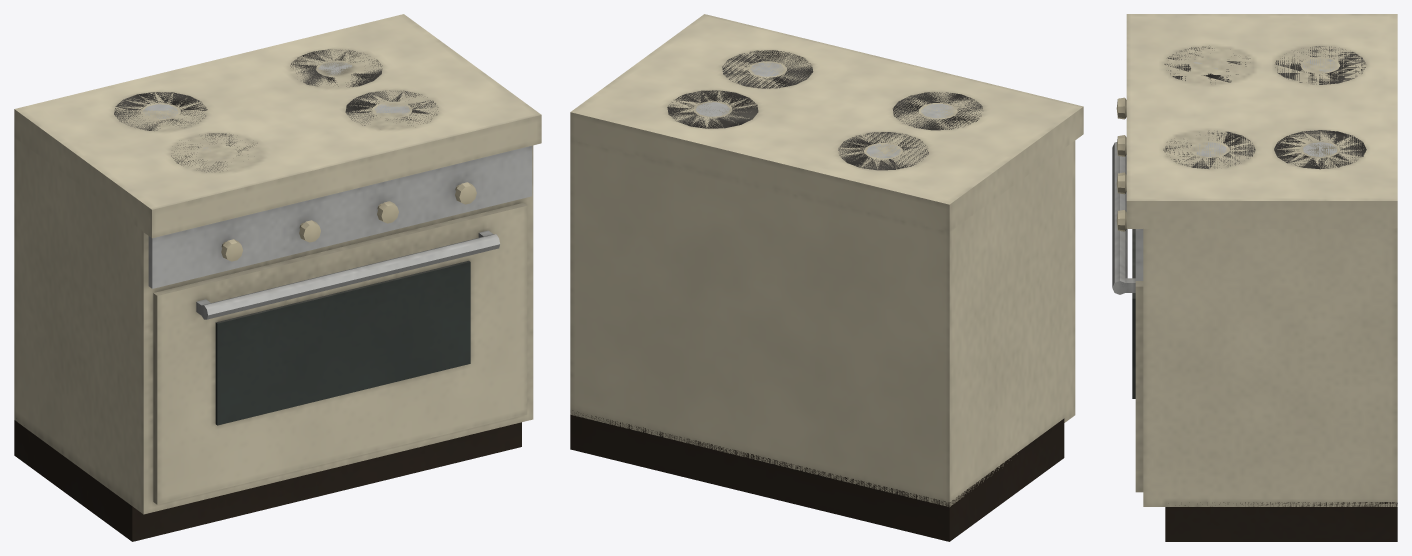
The model's file is H_KitchenHob.fbx.
The picture shows the model from 3 angles, left to right: view 1: azimuth 30°, elevation 25°; view 2: azimuth 150°, elevation 25°; view 3: azimuth 270°, elevation 25°; orthographic projection. The views are drawn at different scales.
Visible parts, largest first — view 1: H_KitchenHob; view 2: H_KitchenHob; view 3: H_KitchenHob.
Boxes of the visible parts, x1,y1,x2,y2 form: H_KitchenHob: (14, 14, 541, 541); H_KitchenHob: (570, 14, 1083, 541); H_KitchenHob: (1112, 14, 1397, 541).
Bounding box in the file's own units: 400 × 340 × 258.
1 material, 1 textured.
